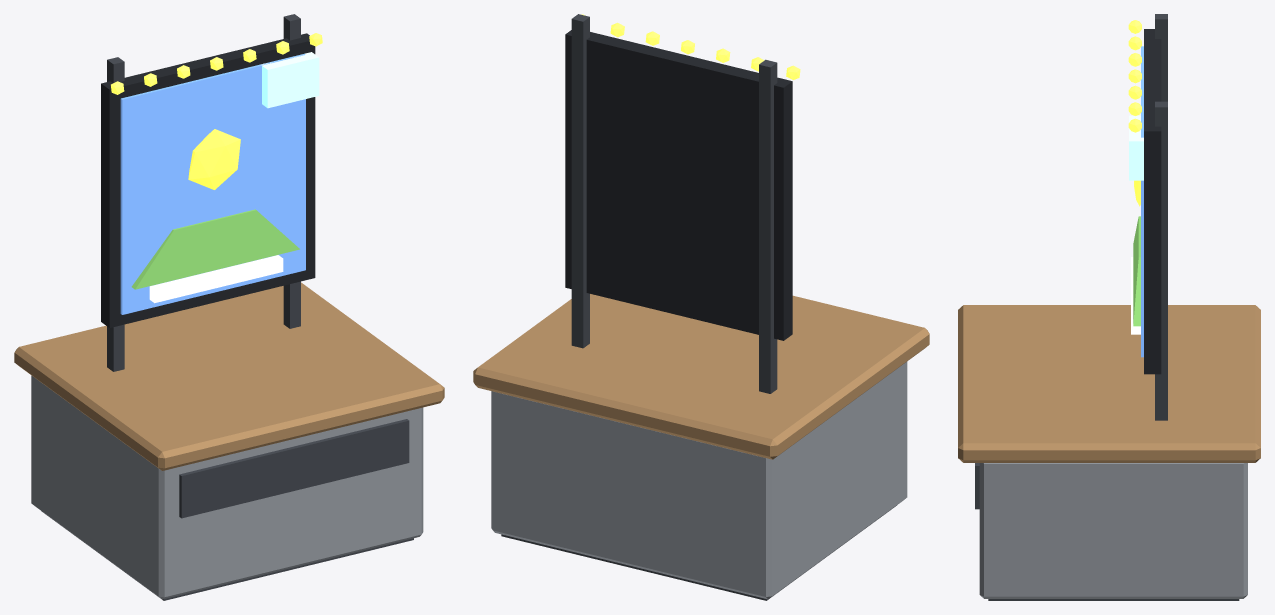
The model's file is poster_p2_3.glb.
3 views of the same model, side by side, from view 1: azimuth 30°, elevation 25°; view 2: azimuth 150°, elevation 25°; view 3: azimuth 270°, elevation 25° (orthographic). The views are drawn at different scales.
Visible parts, largest first — view 1: poster_p2_3_mesh_Desk, poster_p2_3_mesh; view 2: poster_p2_3_mesh_Desk, poster_p2_3_mesh; view 3: poster_p2_3_mesh_Desk, poster_p2_3_mesh.
Part boxes in pixels (left/top/right/bottom): poster_p2_3_mesh_Desk: left=14, top=282, right=444, bottom=600; poster_p2_3_mesh: left=101, top=14, right=322, bottom=371; poster_p2_3_mesh_Desk: left=473, top=294, right=929, bottom=600; poster_p2_3_mesh: left=565, top=14, right=800, bottom=393; poster_p2_3_mesh_Desk: left=958, top=305, right=1260, bottom=600; poster_p2_3_mesh: left=1128, top=14, right=1167, bottom=420.
Bounding box in the file's own units: 0.78 × 1.22 × 0.7.
